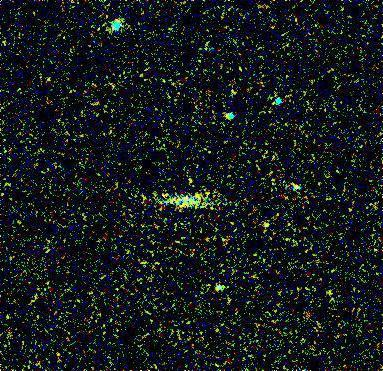star: (280, 171, 310, 201)
